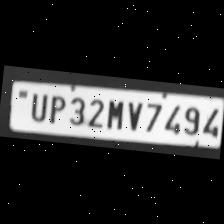2: (86, 95, 106, 128)
3: (64, 92, 88, 125)
4: (200, 103, 222, 138), (160, 100, 182, 134)
7: (140, 97, 162, 132)
9: (180, 102, 202, 135)
M: (102, 96, 125, 130)
P: (45, 92, 67, 124)
U: (26, 88, 49, 122)
V: (122, 96, 144, 132)
